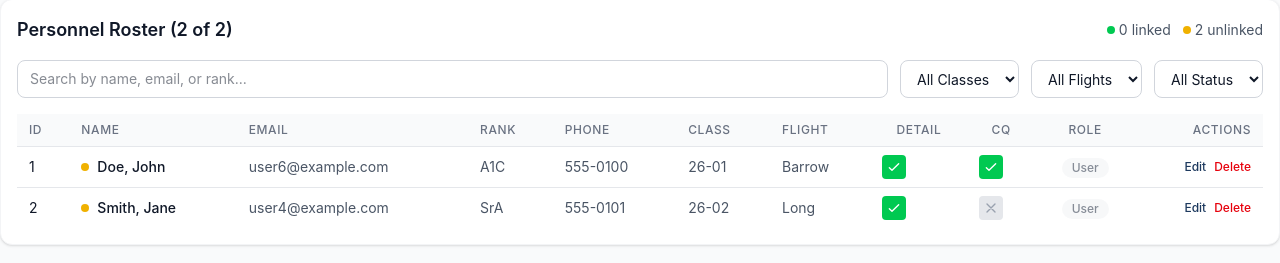
Test: PersonnelRosterTable › should filter by flight
Select "Long" in the 2nd dropdown showing "All Flights" at (1086, 79), box 1031,60 -> 1142,98
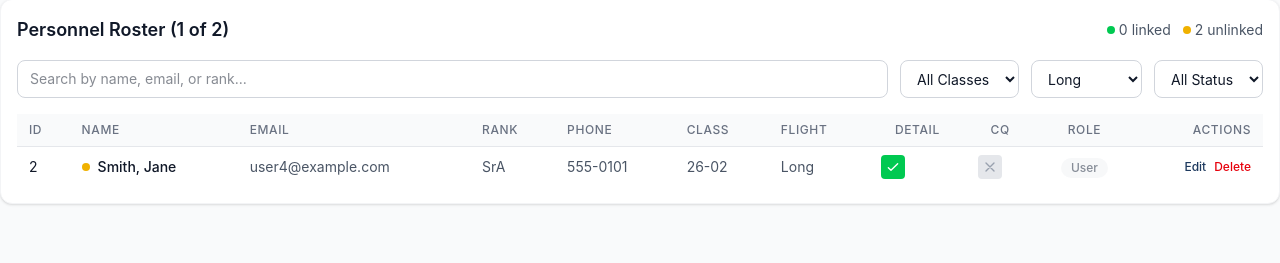
Expected: the text "Smith, Jane" is shown, 98,157 -> 176,177
Expected: the heading "Personnel Roster (1 of 2)" is shown, 17,16 -> 229,44
Expected: the text "Doe, John" is gone
